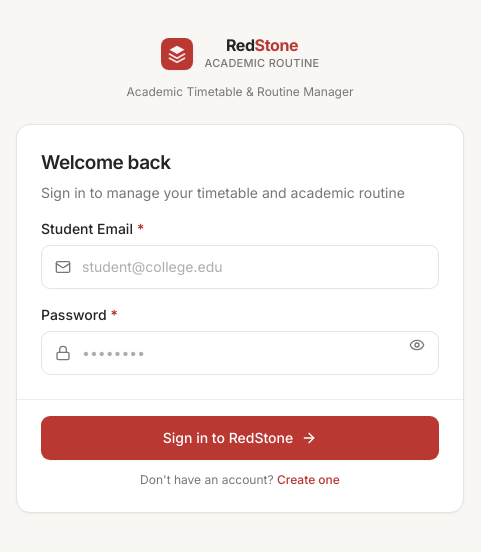
Test: LoginPage — form validation › shows error for invalid email format
Type "not-an-email" into the field labelled "Student Email *" at (240, 267), box [41,245,439,289]
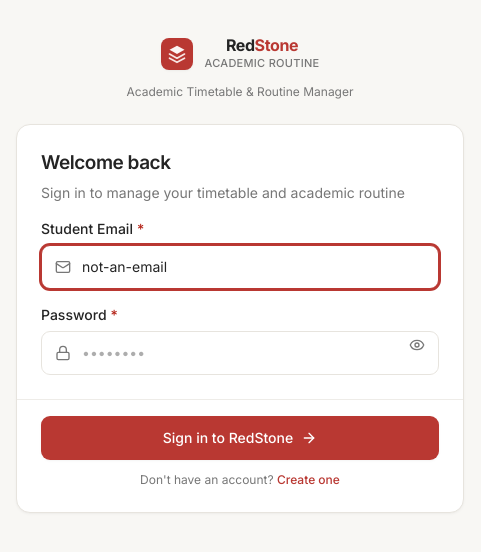
Click the button "Sign in to RedStone" at (240, 438), box [41,416,439,460]
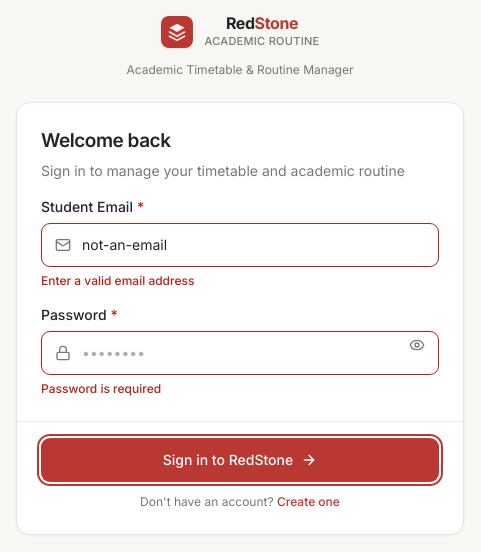
Now the text "Enter a valid email address" is shown, box [41,273,194,288]
